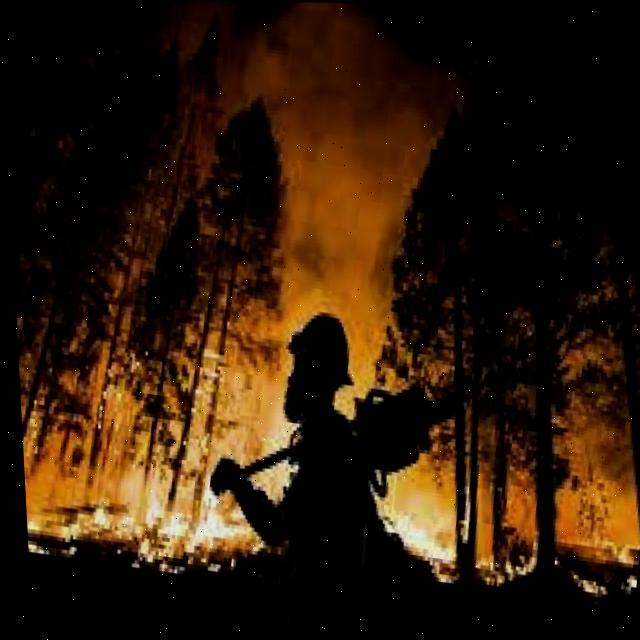fire: (120, 434, 225, 568)
smoke: (262, 12, 428, 318)
